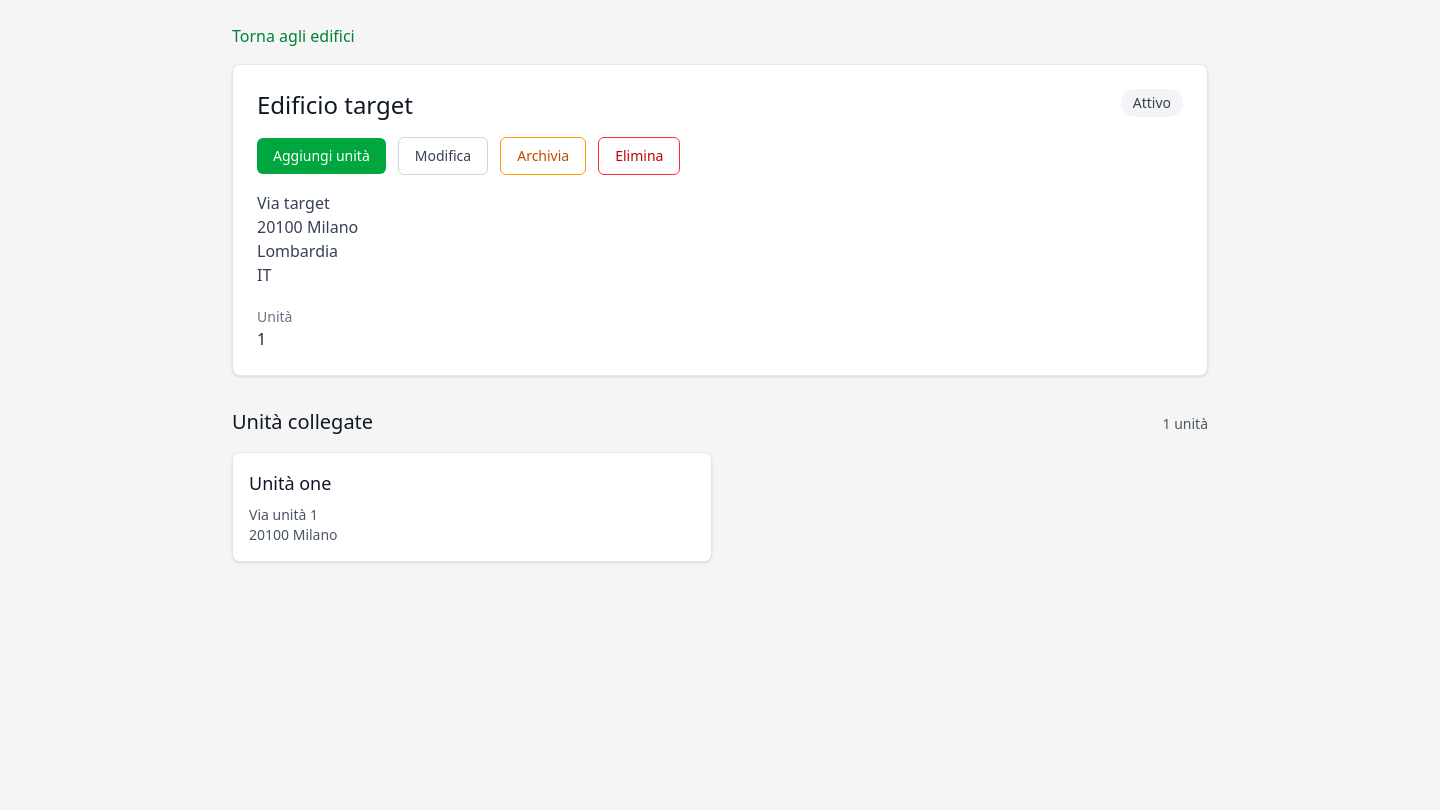
Test: A6.4 Building detail lifecycle › mantiene aperto il modal e mostra l’errore dominio per delete bloccata
This screenshot has width=1440, height=810.
What coordinates should you click on to do the following:
click the button "Elimina"
I would click on:
 (639, 156)
Its box is [598,137,680,175].
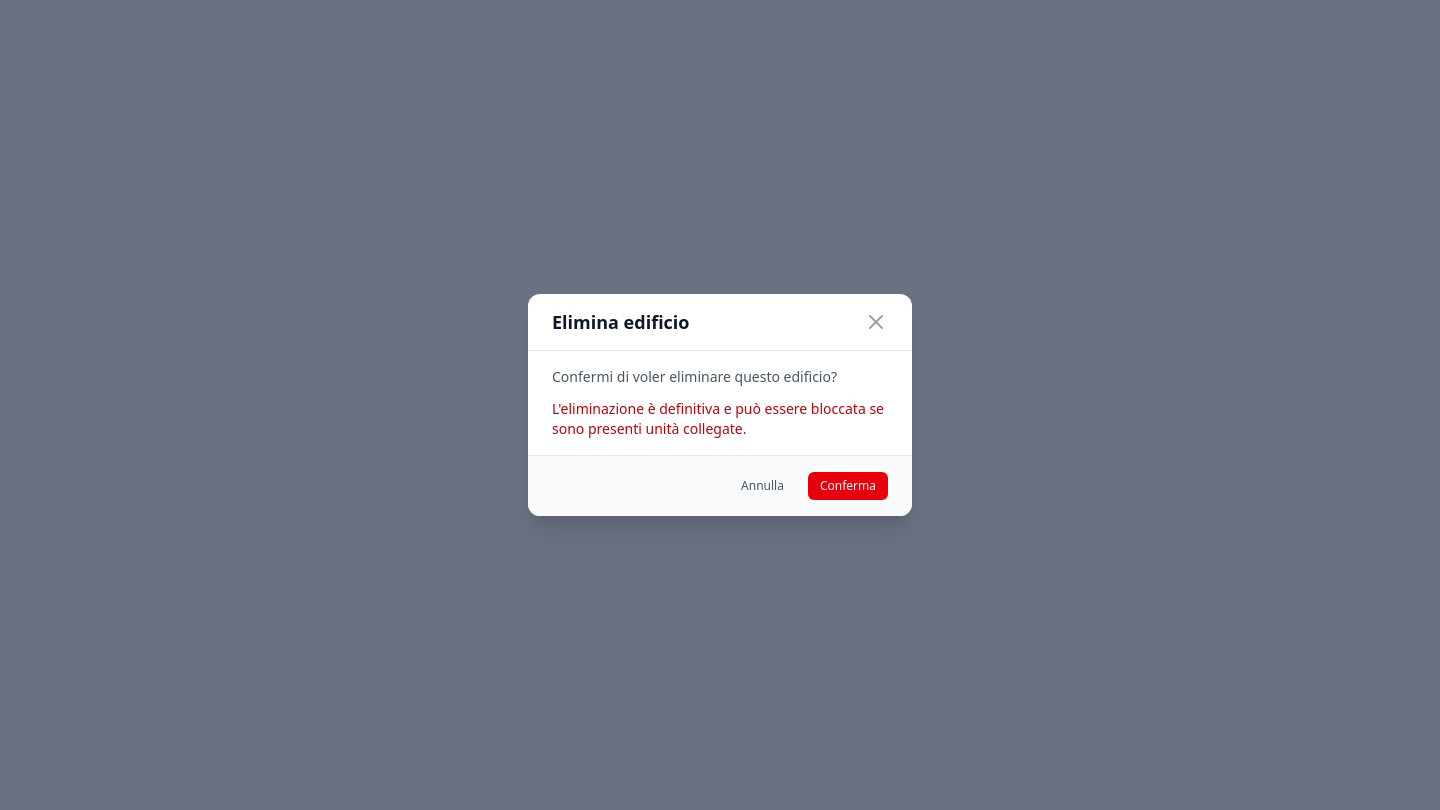
Now the heading "Elimina edificio" is shown, box [552,310,690,334]
What coordinates should you click on to do the following:
click the button "Conferma"
I would click on:
 (848, 486)
Its box is [808,472,888,500].
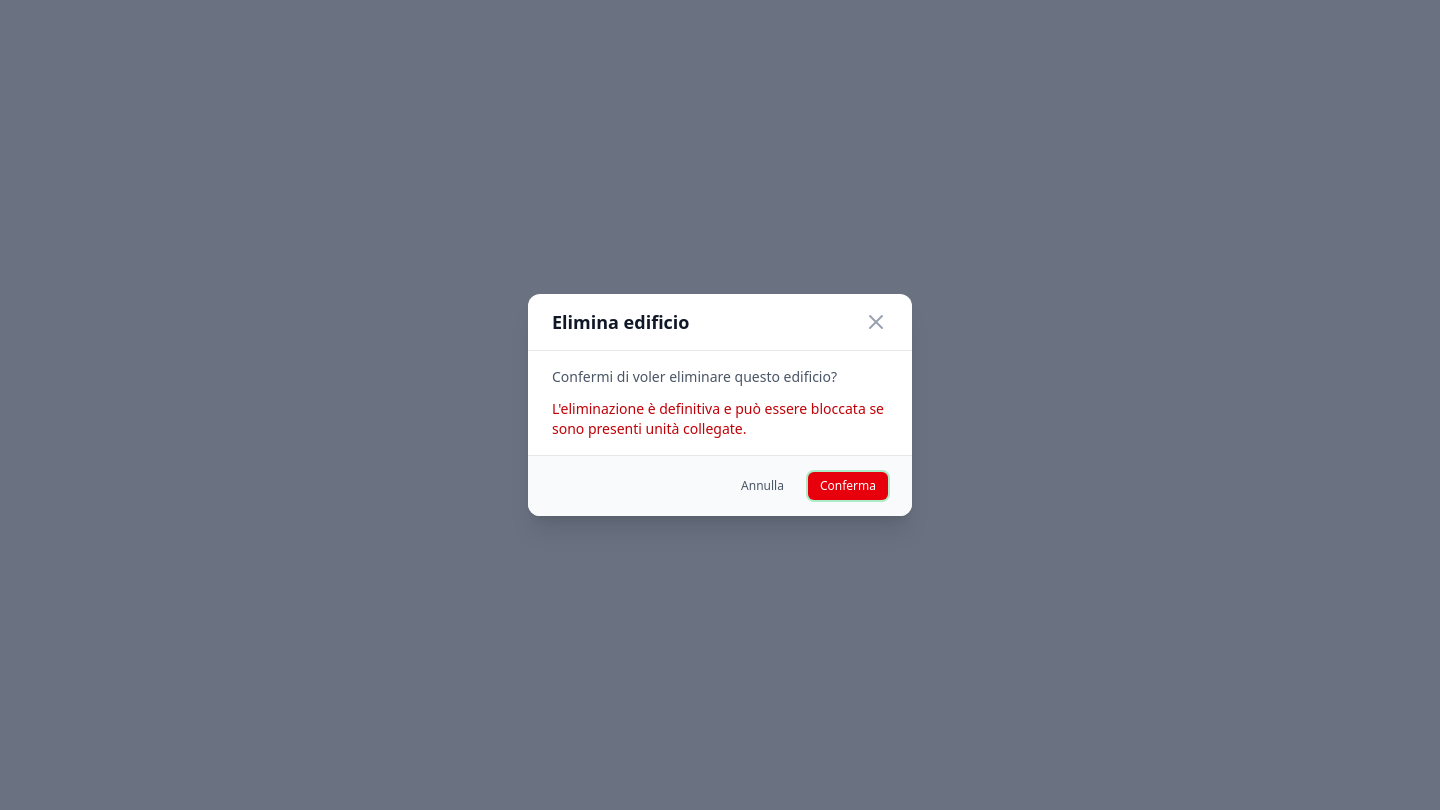
Now the heading "Elimina edificio" is shown, box [552,310,690,334]
What coordinates should you click on to do the following:
click the button "Annulla"
I would click on:
 (762, 486)
Its box is [729,472,796,500].
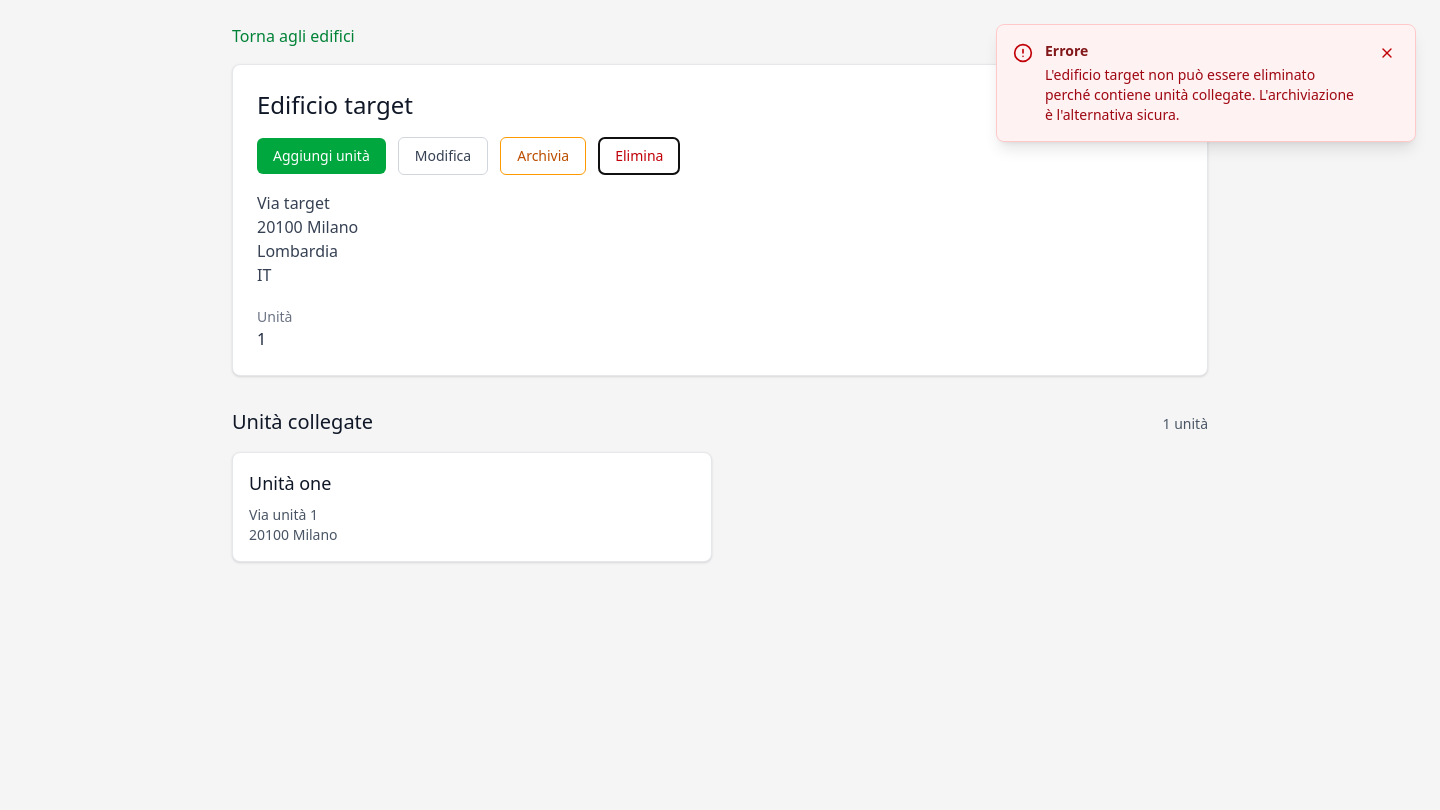
Now the heading "Elimina edificio" is gone
